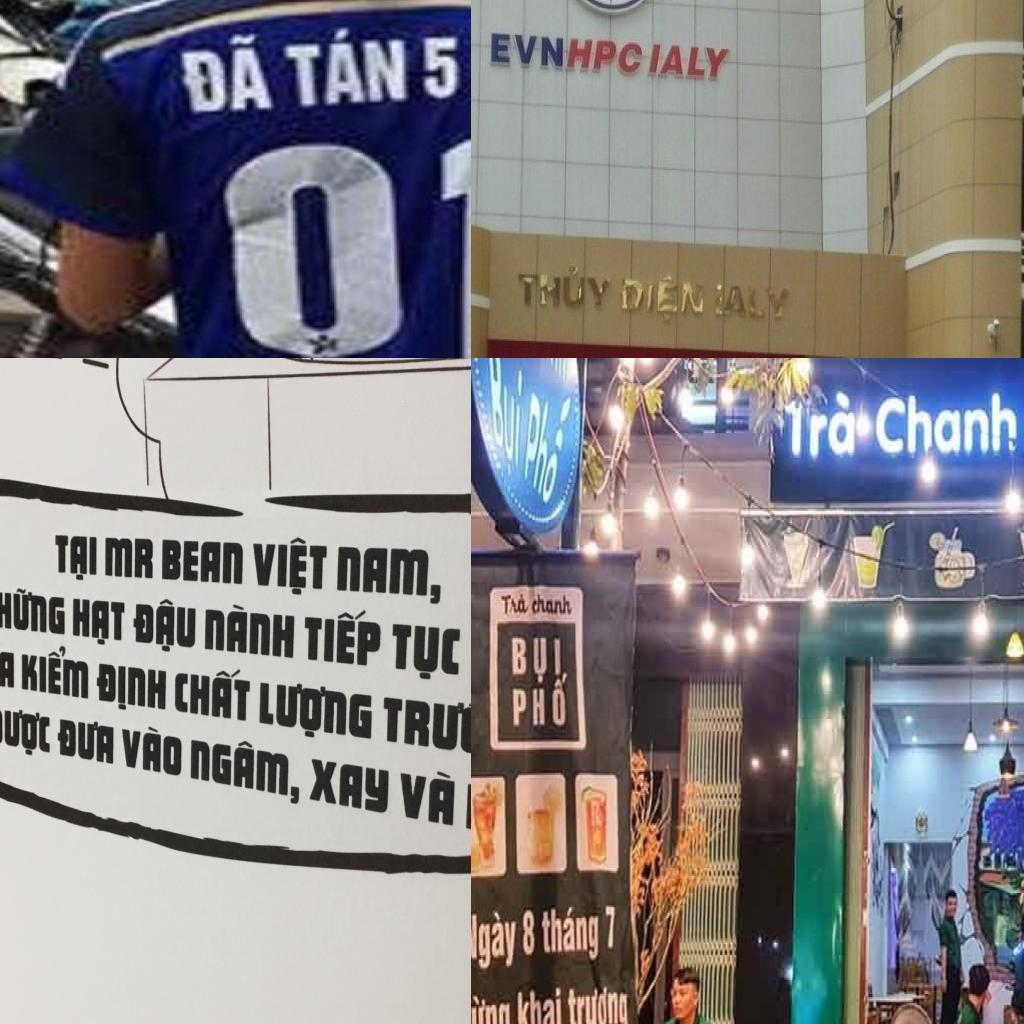text: (202, 124, 471, 358), (274, 25, 414, 113), (170, 28, 285, 117), (876, 394, 1018, 458), (190, 733, 302, 807), (488, 31, 648, 82), (259, 678, 373, 746), (524, 385, 576, 509), (336, 547, 442, 607), (382, 689, 471, 759), (514, 262, 618, 316), (302, 605, 382, 672), (785, 386, 857, 460), (204, 602, 294, 660), (252, 534, 327, 598), (487, 358, 526, 481), (617, 274, 707, 327), (174, 662, 250, 724), (308, 760, 390, 814), (391, 623, 461, 686), (95, 663, 167, 718), (414, 33, 467, 107), (20, 643, 88, 700), (132, 597, 196, 655), (161, 540, 243, 585), (645, 41, 733, 82), (400, 764, 455, 828), (0, 583, 66, 636), (514, 669, 570, 730), (122, 722, 182, 778), (542, 907, 600, 963), (471, 908, 519, 973), (0, 705, 50, 759), (58, 716, 114, 764), (566, 983, 629, 1024), (71, 599, 125, 646), (512, 637, 562, 683), (104, 536, 154, 580), (56, 535, 97, 582), (515, 986, 563, 1024), (520, 358, 570, 388), (471, 992, 512, 1024), (530, 594, 576, 616), (500, 592, 530, 616), (0, 646, 14, 689), (524, 909, 536, 958), (604, 905, 616, 952)
